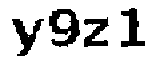1: (118, 7, 147, 51)
9: (49, 8, 79, 52)
y: (9, 16, 43, 60)
z: (82, 17, 113, 48)
